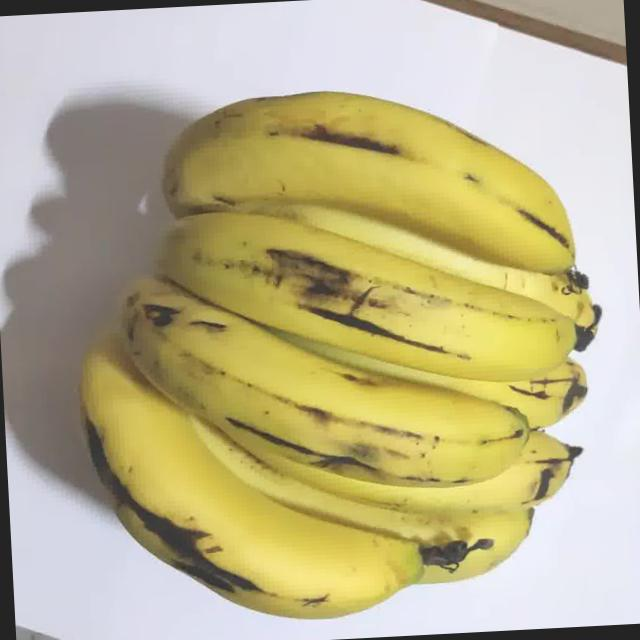banana_pacche: (10, 12, 638, 640)
